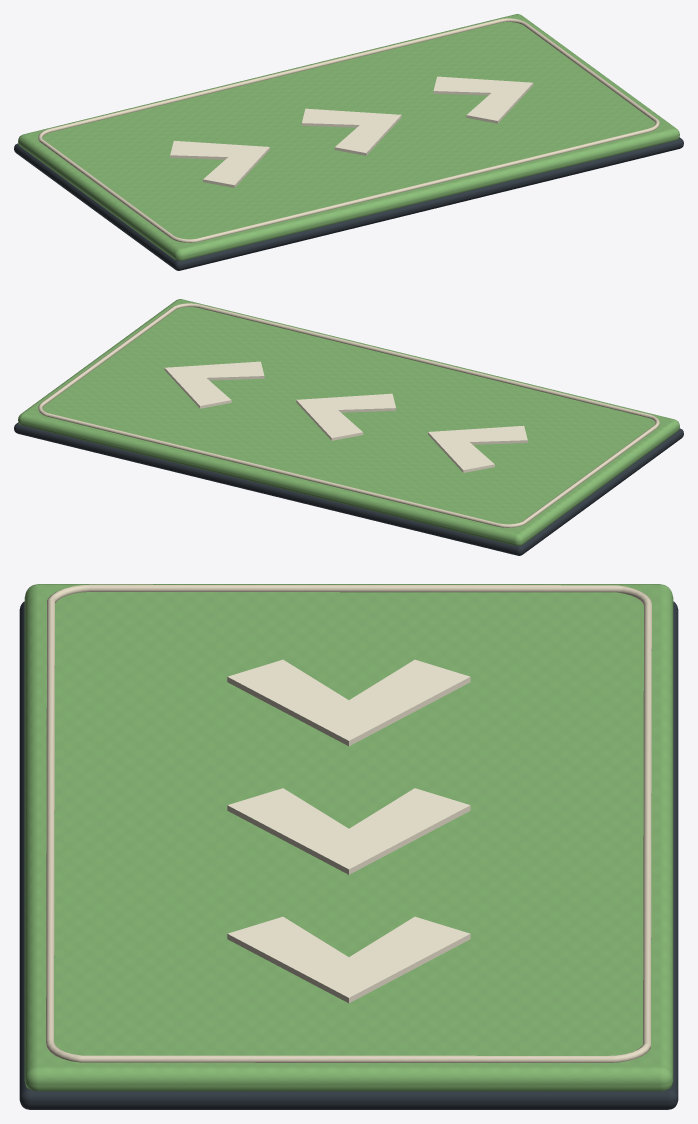
3 views of the same model, one above another, from view 1: azimuth 30°, elevation 25°; view 2: azimuth 150°, elevation 25°; view 3: azimuth 270°, elevation 25° (orthographic). The views are drawn at different scales.
Parts seen in each view (by area): view 1: MAT; view 2: MAT; view 3: MAT.
Boxes of the visible parts, x1,y1,x2,y2 form: MAT: (14, 14, 683, 270); MAT: (14, 299, 683, 555); MAT: (19, 584, 678, 1109).
Bounding box in the file's own units: 1.16 × 0.051 × 0.65.
Materials: 4 (2 with a texture image).
